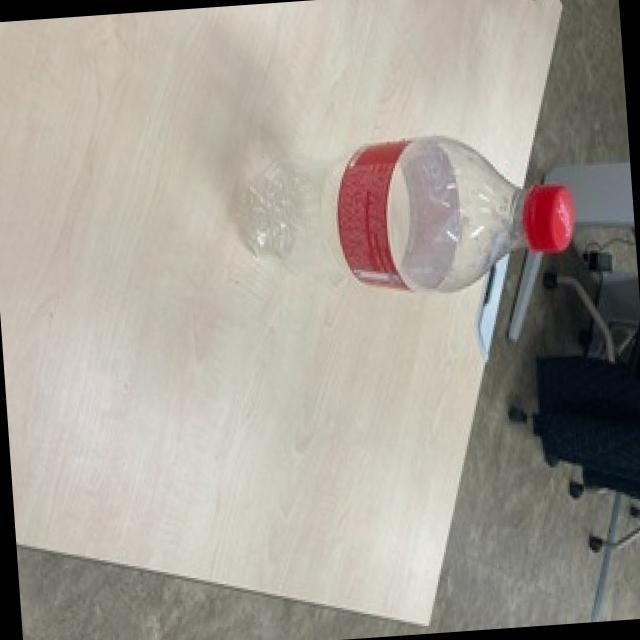good: (217, 120, 586, 313)
